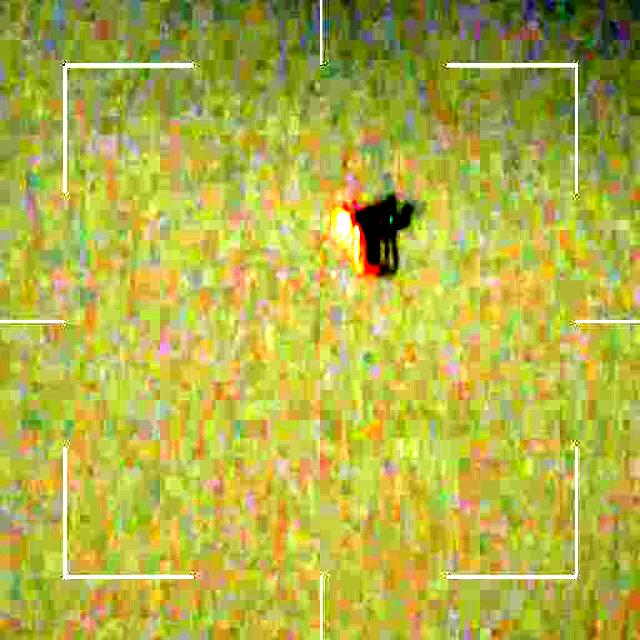bird: (326, 186, 418, 284)
